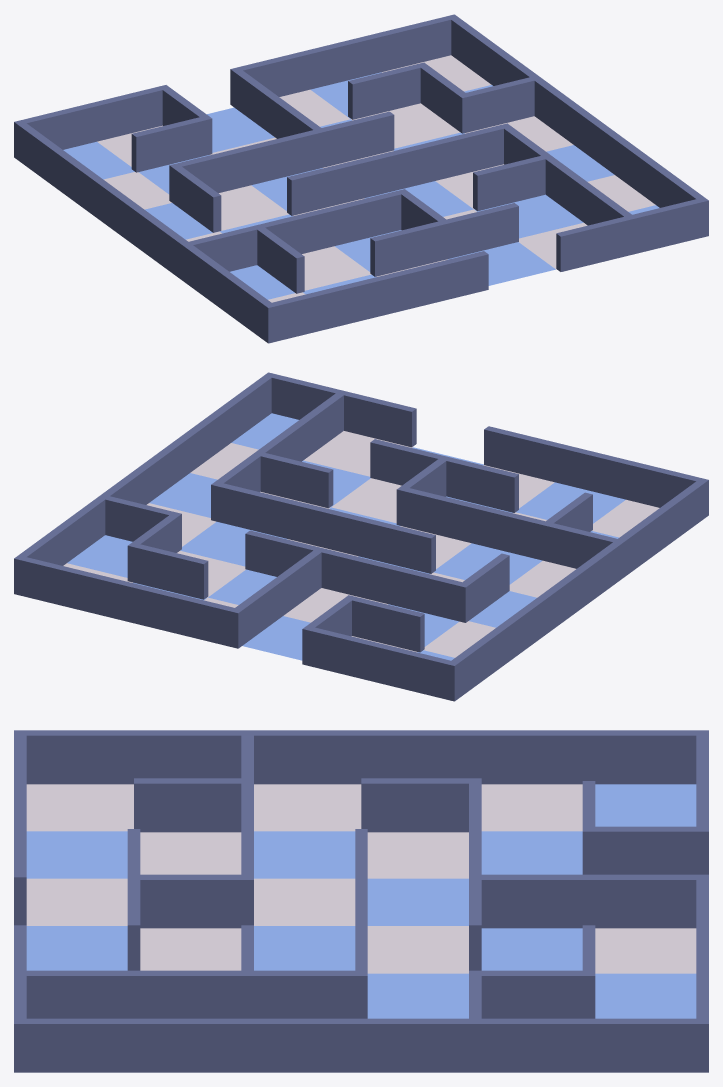
File: exc3.fbx
3 renders of one model, top to bottom at view 1: azimuth 30°, elevation 25°; view 2: azimuth 150°, elevation 25°; view 3: azimuth 270°, elevation 25°, orthographic. The views are drawn at different scales.
Parts seen in each view (by area): view 1: Curve, Plane; view 2: Curve, Plane; view 3: Curve, Plane.
Boxes of the visible parts, <box> form: Curve: <box>14,14,708,343</box>; Plane: <box>63,55,659,302</box>; Curve: <box>14,372,708,701</box>; Plane: <box>63,413,659,660</box>; Curve: <box>14,730,708,1072</box>; Plane: <box>26,784,696,1018</box>.
Size of the model in its own units: 20.53 by 1.58 by 20.53.
